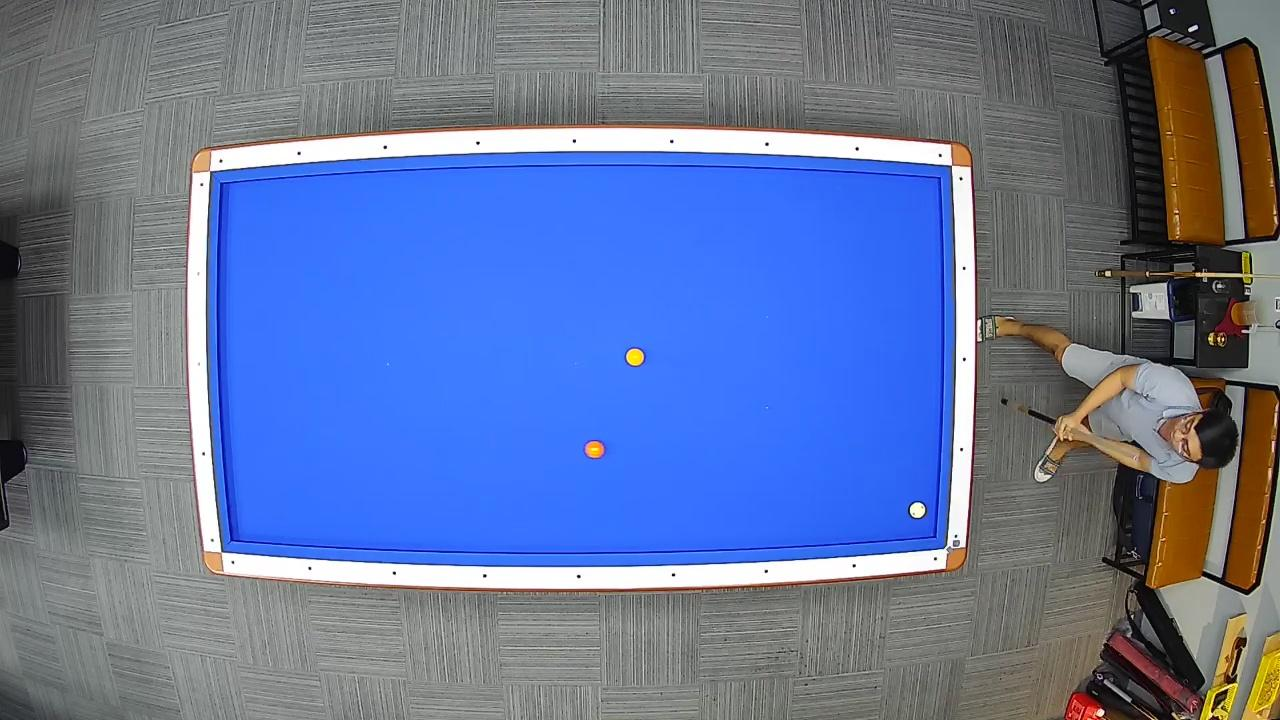Orange: (583, 440, 606, 459)
White: (908, 500, 926, 520)
Yellow: (624, 348, 646, 368)
